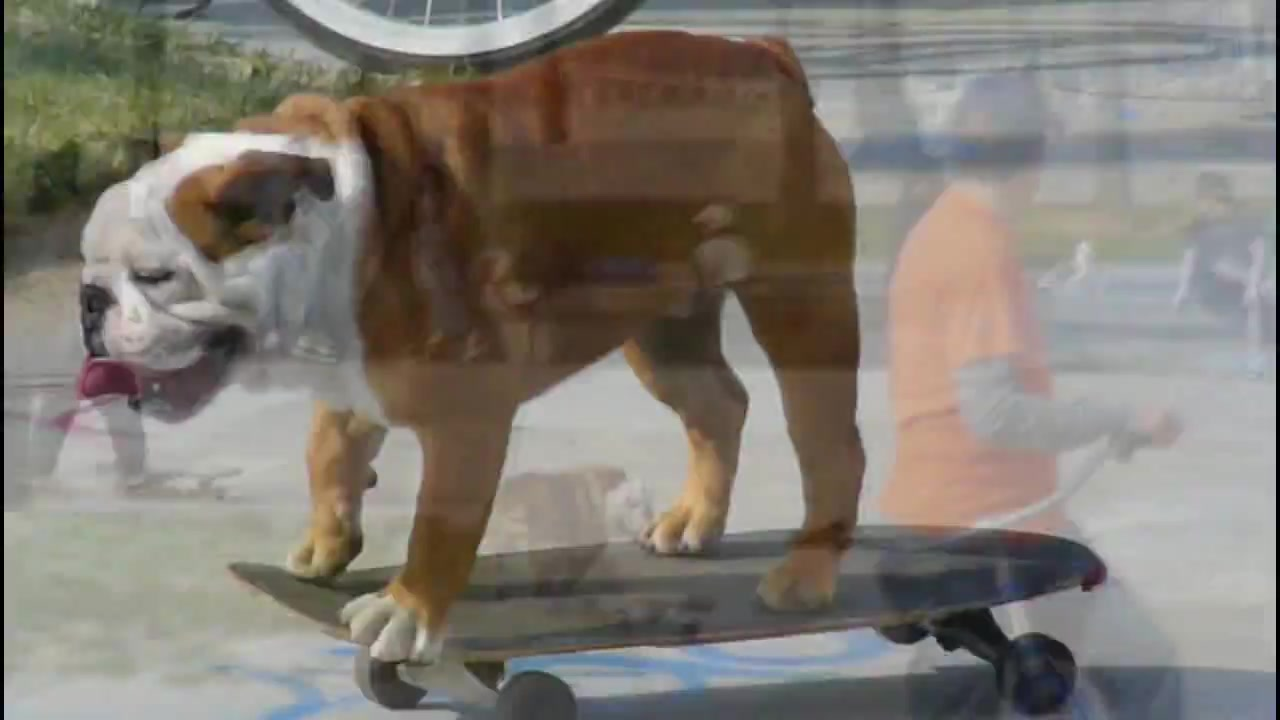dog: (77, 29, 867, 668)
